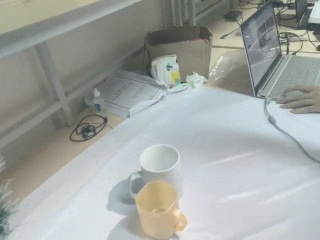box: (145, 25, 212, 89)
cup: (133, 178, 190, 240), (138, 143, 180, 173)
